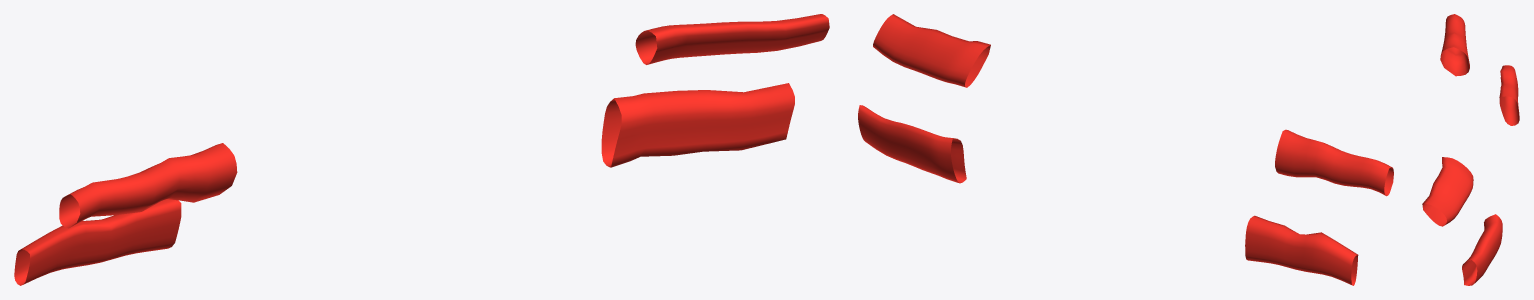
Rendered from leftatriumvessel.glb.
3 views of the same model, side by side, from view 1: azimuth 30°, elevation 25°; view 2: azimuth 150°, elevation 25°; view 3: azimuth 270°, elevation 25° (orthographic). The views are drawn at different scales.
Parts seen in each view (by area): view 1: Left atrium.002; view 2: Left atrium.002; view 3: Left atrium.002.
Part boxes in pixels (bbox=[...]): Left atrium.002: bbox=[14, 14, 829, 285]; Left atrium.002: bbox=[858, 14, 1393, 285]; Left atrium.002: bbox=[1422, 14, 1519, 285].
Size of the model in its own units: 3.71 by 0.7732 by 0.7478.
